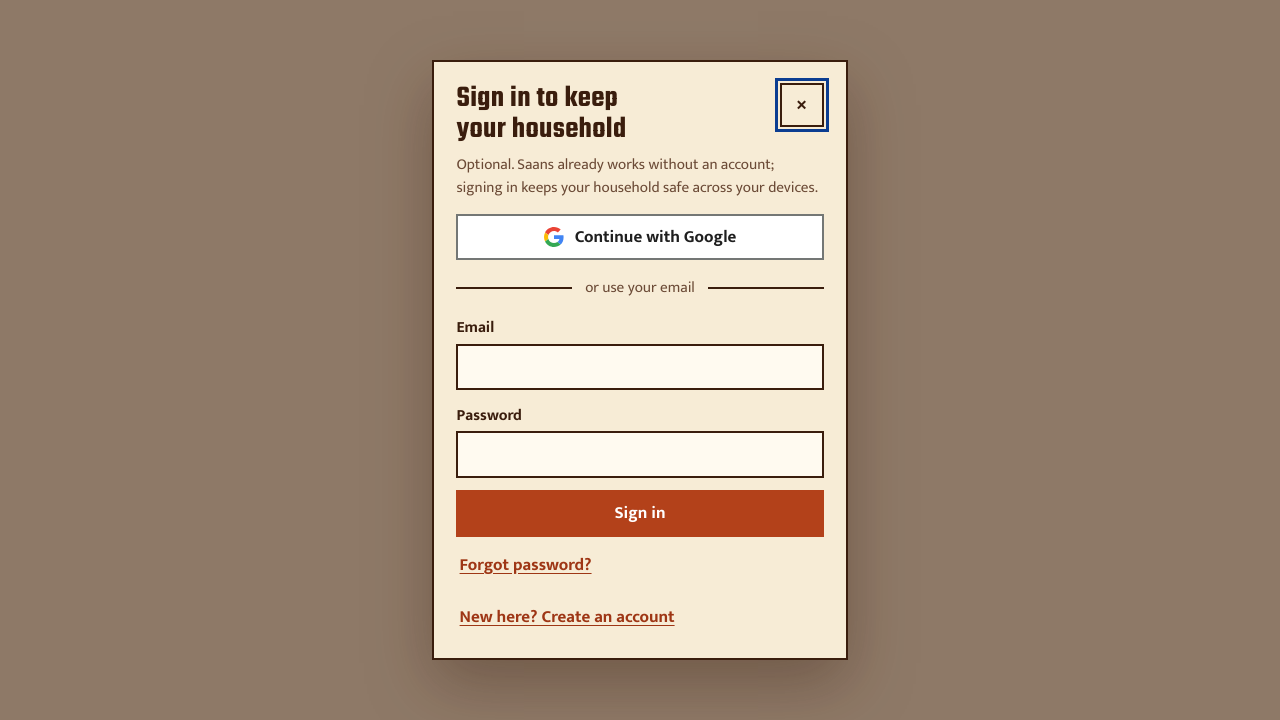
AuthDialog › explains a wrong password and an existing account
This screenshot has width=1280, height=720.
Type "asha@example.com" into the field labelled "Email".
click(640, 367); type("asha@example.com")  # box [456,344,824,390]
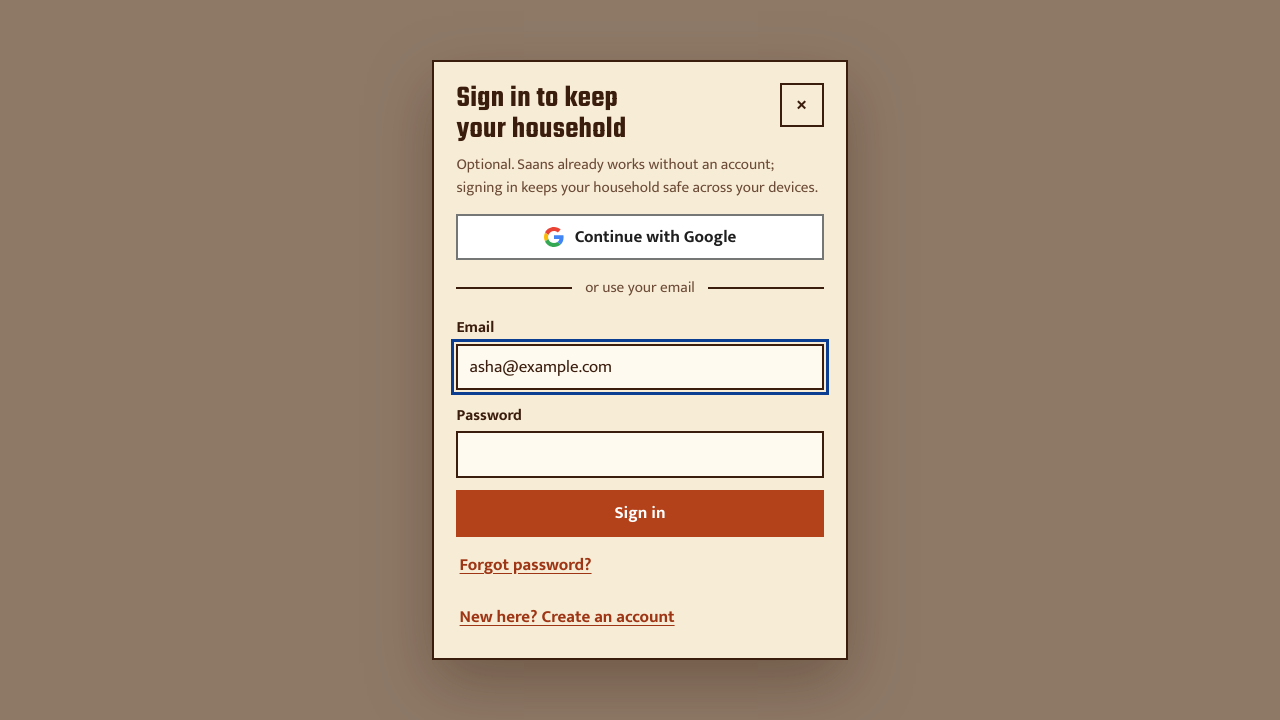
Type "nope-nope" into the password field labelled "Password".
click(640, 454); type("nope-nope")  # box [456,431,824,478]
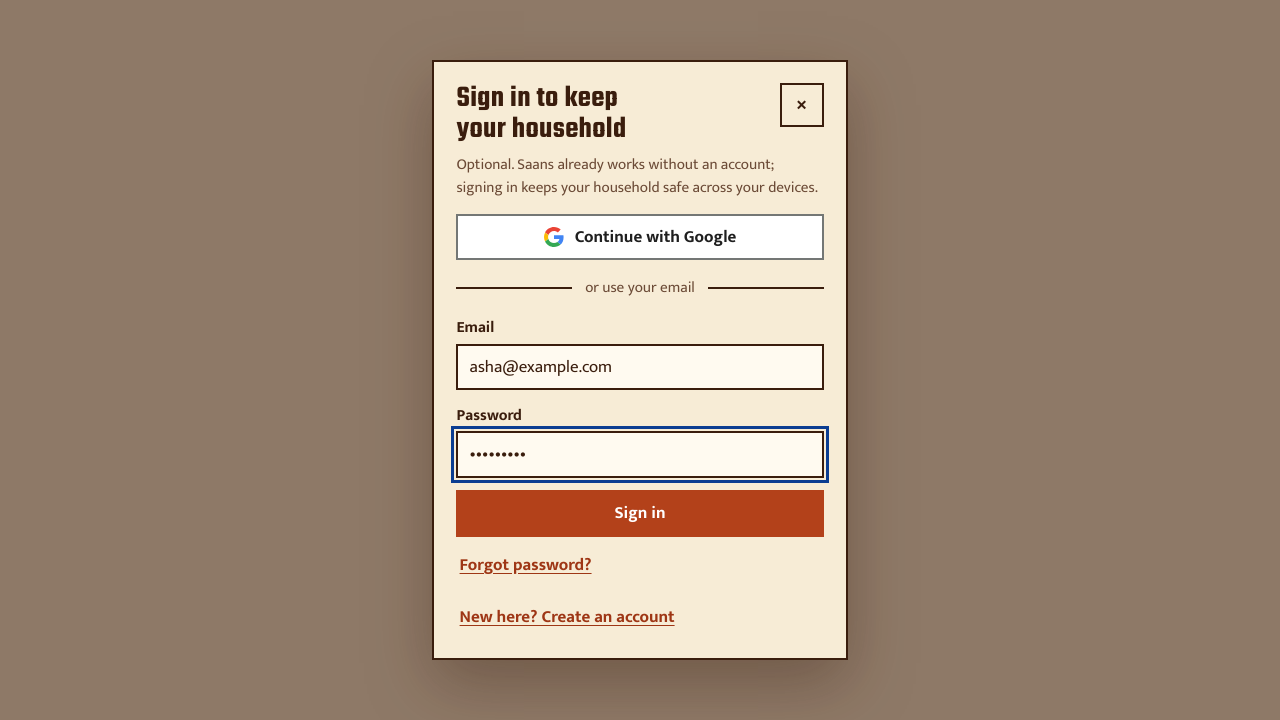
Click the button "Sign in".
click(640, 514)  # box [456,490,824,537]
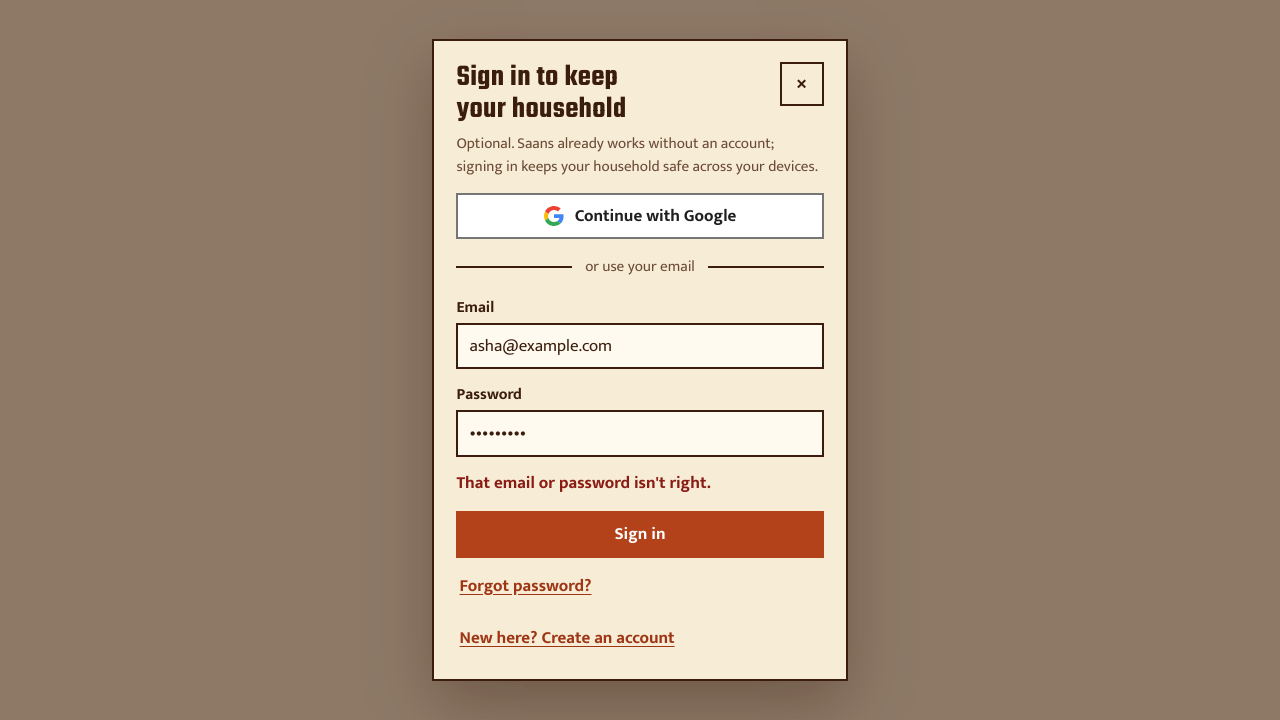
Expected: the message reads "That email or password isn't right.", [456,468,711,496]
